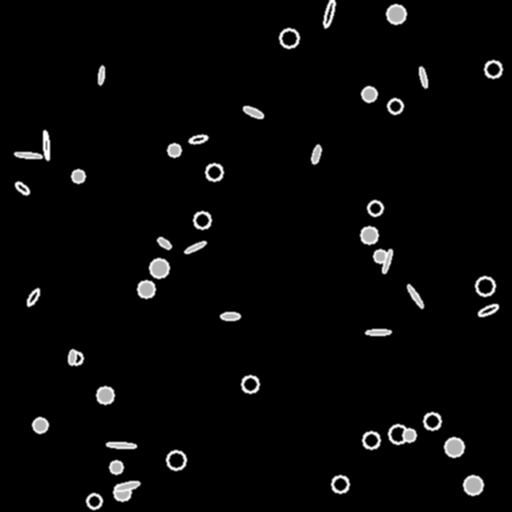pseudomonas: (405, 283, 425, 309), (322, 0, 336, 28), (25, 287, 41, 307), (114, 480, 140, 492), (477, 303, 499, 317), (242, 105, 264, 119), (184, 240, 206, 254), (381, 249, 393, 273), (13, 180, 31, 196), (310, 144, 322, 164), (106, 441, 136, 449), (188, 133, 208, 145), (42, 131, 50, 159), (156, 236, 172, 250), (418, 66, 428, 88), (15, 151, 41, 159), (97, 65, 105, 85), (365, 329, 391, 335), (221, 313, 240, 320), (68, 349, 76, 365)
synechocystis: (167, 451, 185, 469), (280, 29, 298, 47), (389, 425, 407, 443), (464, 476, 482, 494), (445, 438, 463, 456), (150, 259, 168, 277), (476, 277, 494, 295), (387, 5, 405, 23), (194, 212, 210, 228), (485, 61, 501, 77), (332, 476, 348, 492), (114, 484, 130, 500), (361, 227, 377, 243), (138, 281, 154, 297), (424, 413, 440, 429), (363, 432, 379, 448), (242, 376, 258, 392), (97, 387, 113, 403), (206, 164, 222, 180), (33, 418, 47, 432), (368, 201, 382, 215), (362, 87, 376, 101), (87, 494, 101, 508), (388, 99, 402, 113), (168, 144, 180, 156), (72, 170, 84, 182), (374, 250, 386, 262), (70, 352, 82, 364), (110, 461, 122, 473), (403, 429, 415, 441)
